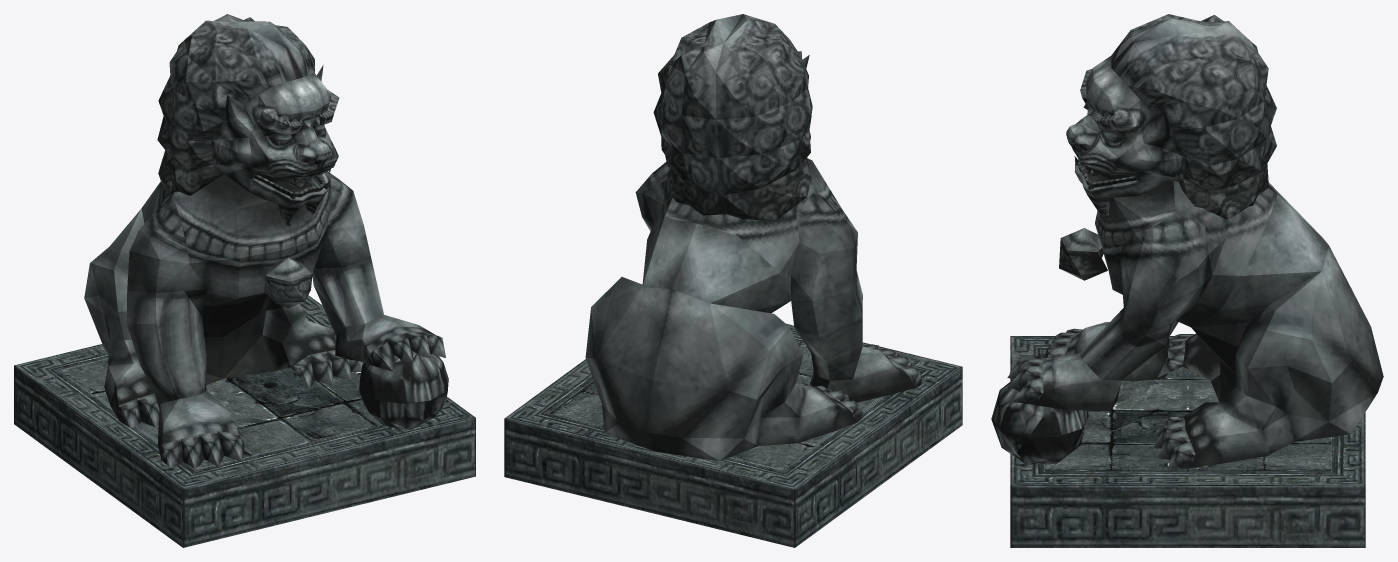
File: lion.DAE
3 renders of one model, left to right at view 1: azimuth 30°, elevation 25°; view 2: azimuth 150°, elevation 25°; view 3: azimuth 270°, elevation 25°, orthographic. The views are drawn at different scales.
Visible parts, largest first — view 1: s_s________01_0, s_s________01_1; view 2: s_s________01_0, s_s________01_1; view 3: s_s________01_0, s_s________01_1.
Part boxes in pixels (x1,y1,x2,y2): s_s________01_0: (84, 14, 448, 468); s_s________01_1: (14, 295, 475, 547); s_s________01_0: (585, 14, 925, 461); s_s________01_1: (504, 323, 962, 547); s_s________01_0: (991, 14, 1383, 468); s_s________01_1: (1010, 336, 1365, 547).
Bounding box in the file's own units: 48.34 × 53.35 × 67.74.
